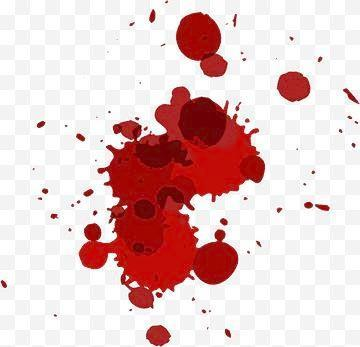Bloodstain-Detection: (118, 152, 189, 283), (179, 111, 256, 189), (177, 20, 219, 58), (200, 243, 228, 281), (283, 68, 306, 101)
